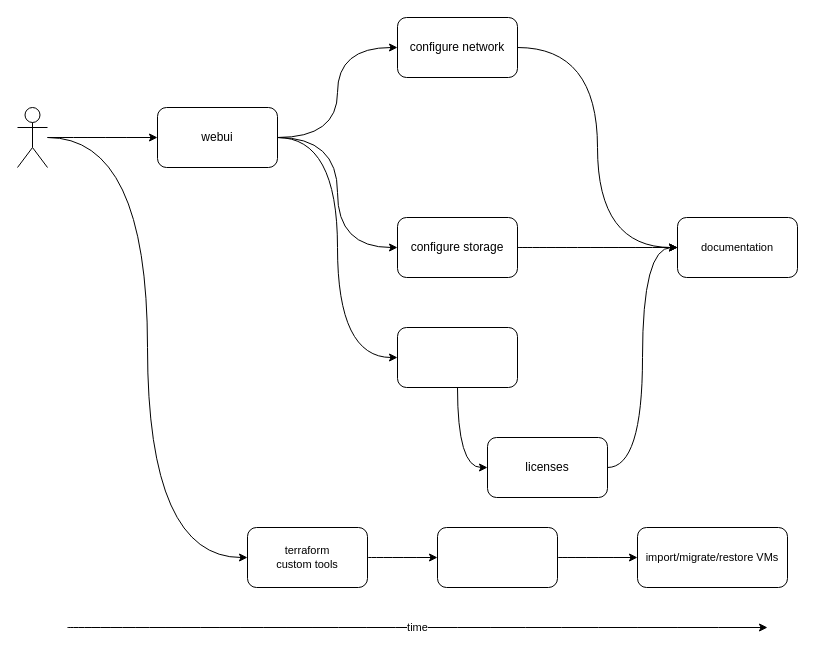
This 815x651 diagram has some shape labels left out. Each missing label, with the box of its shape:
Actor: (16, 106, 48, 168)
api: (436, 526, 558, 588)
configure cluster: (396, 326, 518, 388)
